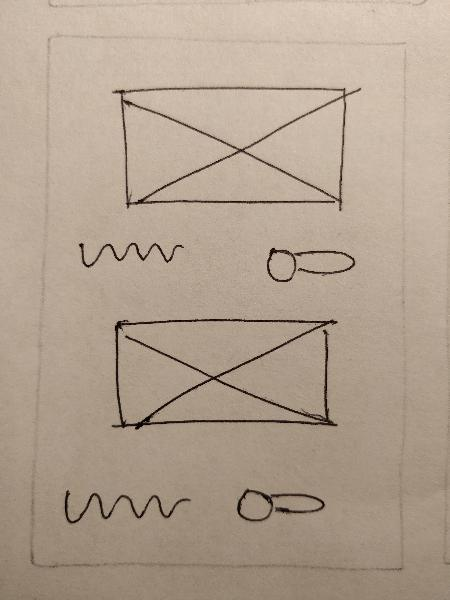image: (107, 75, 365, 224), (102, 308, 343, 437)
switch: (224, 480, 335, 535), (253, 237, 362, 287)
text: (57, 480, 198, 530), (68, 233, 190, 282)
